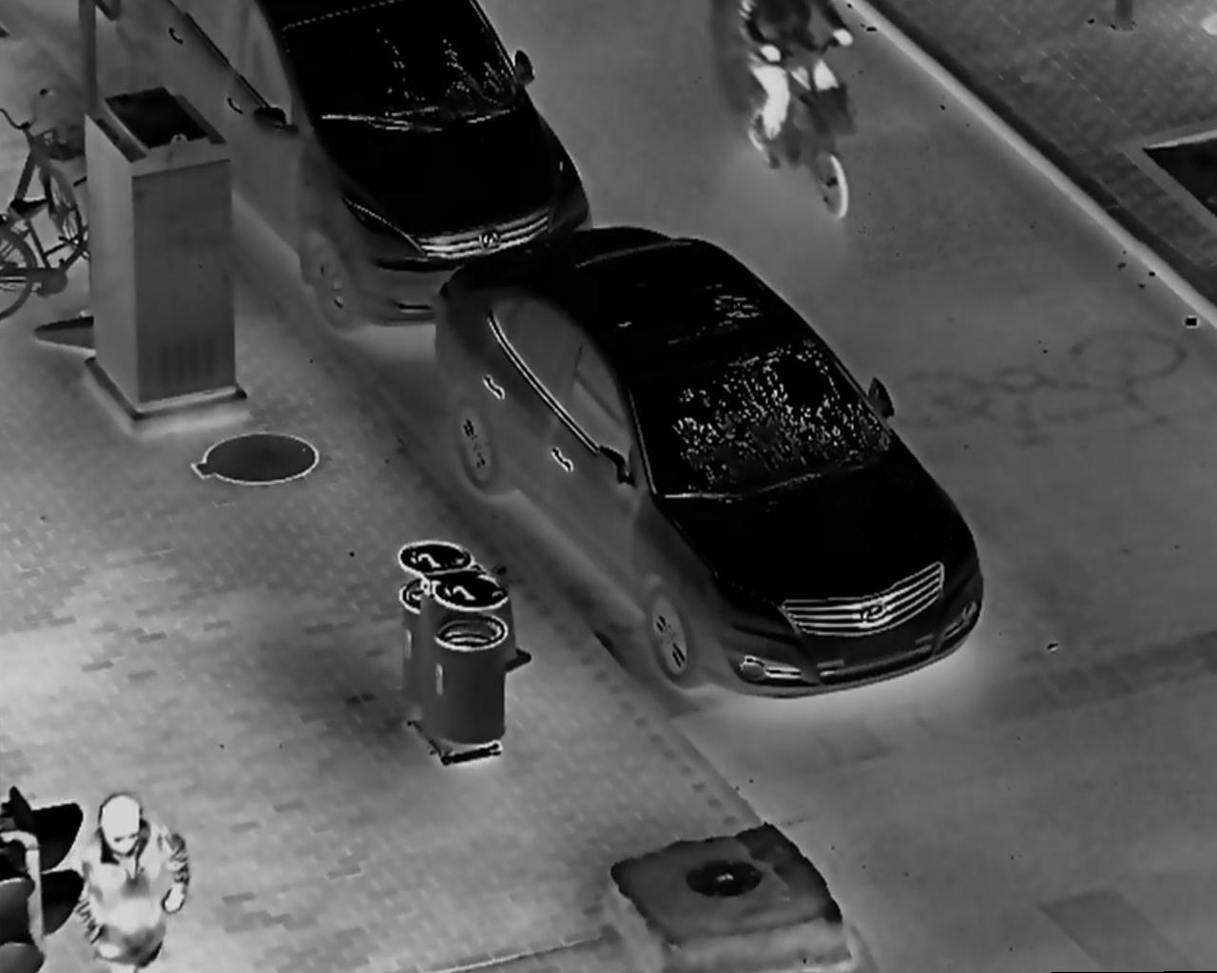person: (67, 795, 198, 973), (729, 2, 860, 172)
